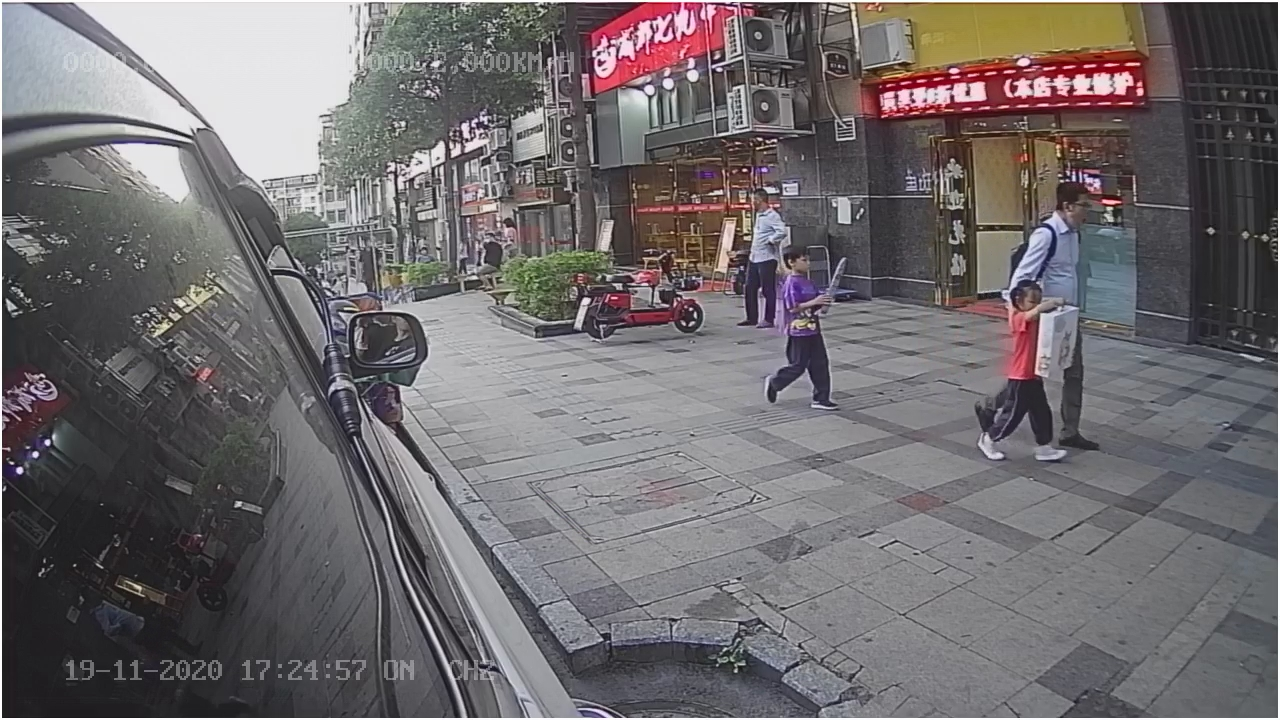person: (754, 242, 848, 410), (1025, 180, 1101, 280)
